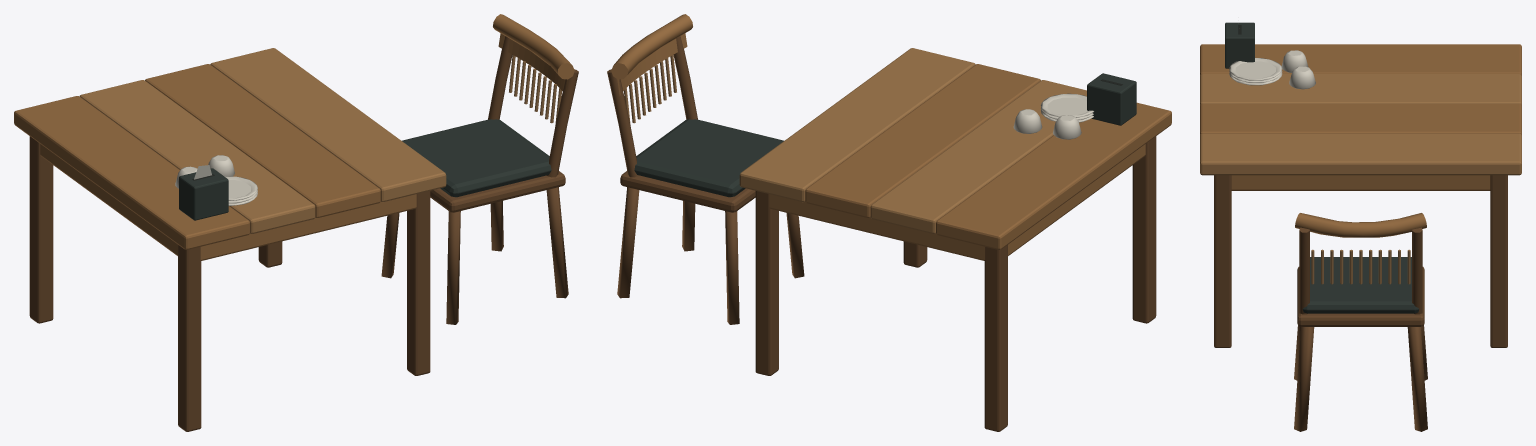
File: walltable.glb
3 views of the same model, side by side, from view 1: azimuth 30°, elevation 25°; view 2: azimuth 150°, elevation 25°; view 3: azimuth 270°, elevation 25° (orthographic). The views are drawn at different scales.
Parts seen in each view (by area): view 1: Tianjin_walltable; view 2: Tianjin_walltable; view 3: Tianjin_walltable.
Boxes of the visible parts, x1,y1,x2,y2 form: Tianjin_walltable: [14, 14, 578, 431]; Tianjin_walltable: [607, 14, 1171, 431]; Tianjin_walltable: [1200, 22, 1521, 431].
Bounding box in the file's own units: 1.66 × 0.8874 × 1.1.
